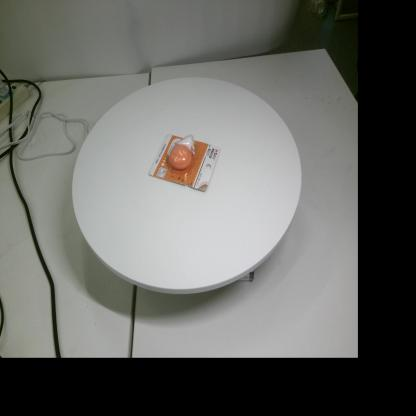Stationery: (148, 134, 220, 192)
